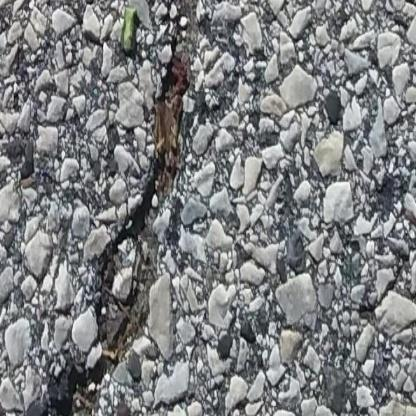Cracks: (40, 0, 209, 416)
